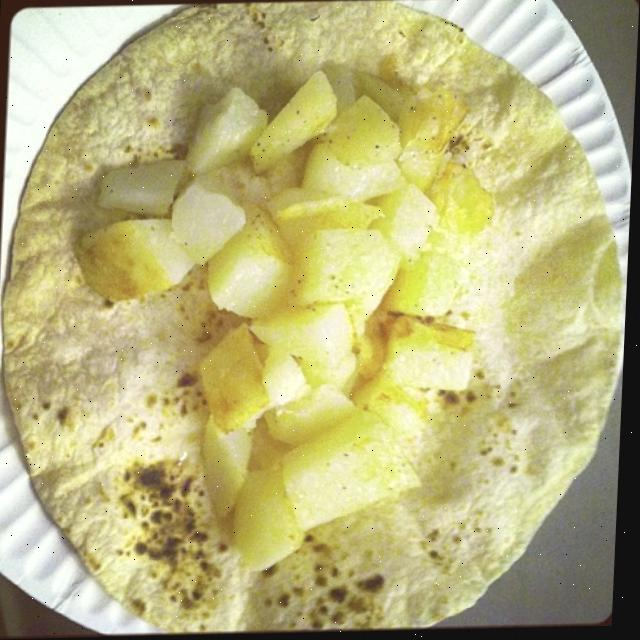面包点心: (0, 0, 630, 632)
